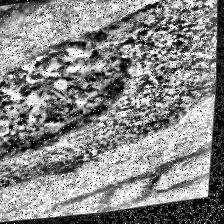pothole: (0, 21, 144, 171)
